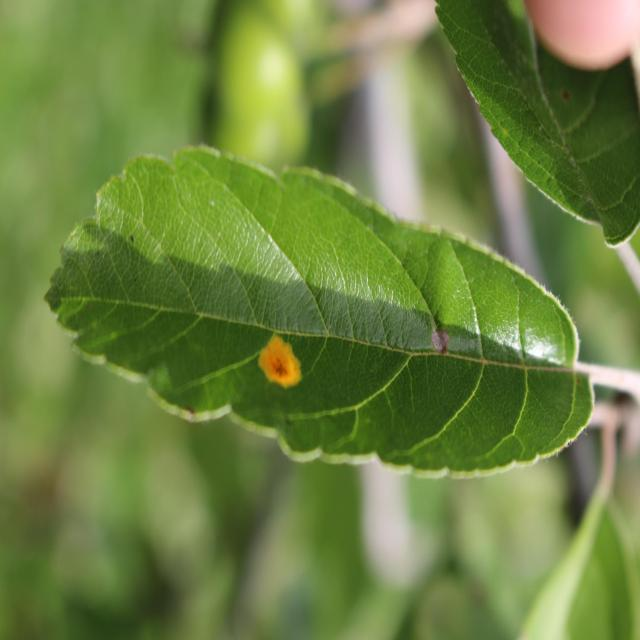Rust: (236, 314, 312, 421)
